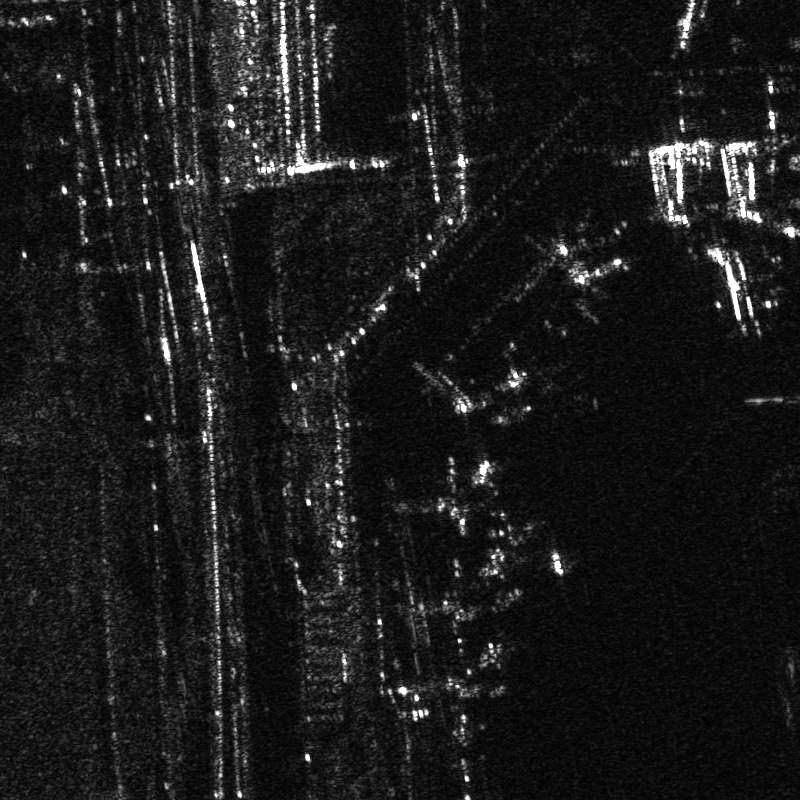A220: (689, 238, 785, 341)
A320/321: (429, 366, 542, 460)
Boeing737: (543, 239, 634, 310)
